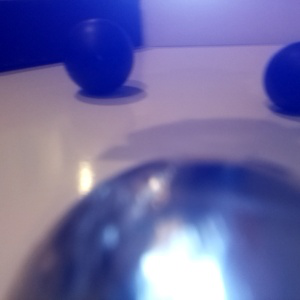alive_ball: (1, 156, 300, 300)
dead_ball: (62, 17, 136, 95), (262, 41, 300, 116)
